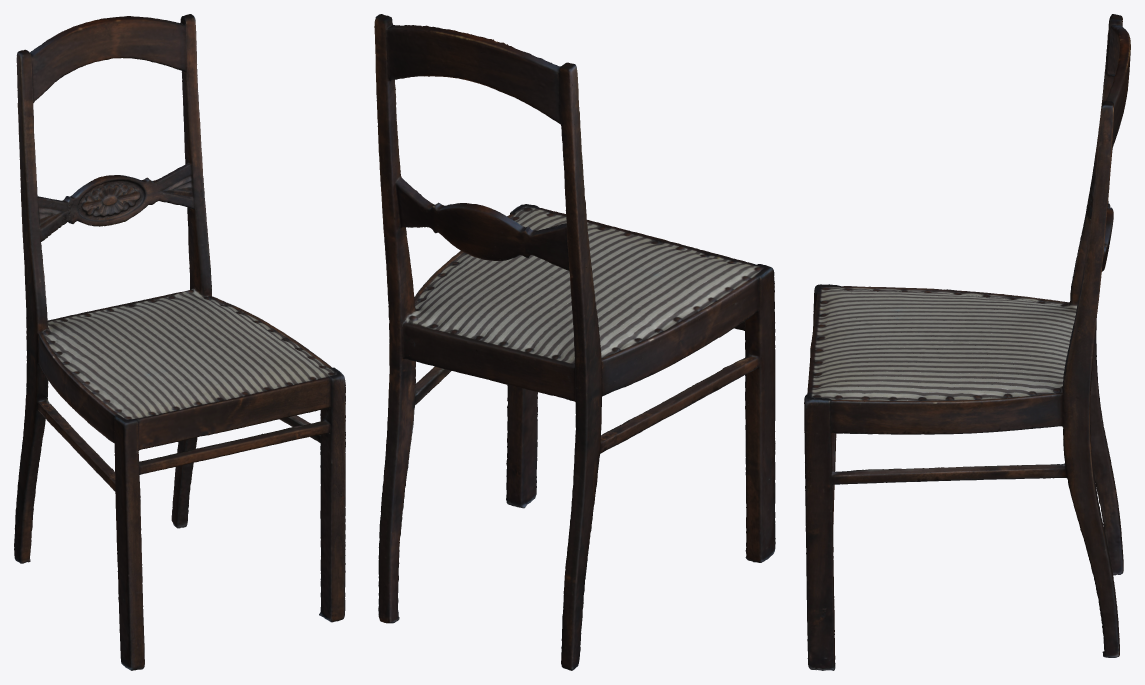
File: obj_wooden_chair_with_a_cushion_6c12af.glb
3 renders of one model, left to right at view 1: azimuth 30°, elevation 25°; view 2: azimuth 150°, elevation 25°; view 3: azimuth 270°, elevation 25°, orthographic. The views are drawn at different scales.
Visible parts, largest first — view 1: obj_wooden_chair_with_a_cushion_6c12af; view 2: obj_wooden_chair_with_a_cushion_6c12af; view 3: obj_wooden_chair_with_a_cushion_6c12af.
Part boxes in pixels (<box>): obj_wooden_chair_with_a_cushion_6c12af: <box>14,14,345,670</box>; obj_wooden_chair_with_a_cushion_6c12af: <box>374,14,775,670</box>; obj_wooden_chair_with_a_cushion_6c12af: <box>804,14,1130,670</box>.
Size of the model in its own units: 0.3782 by 0.85 by 0.4431.
1 material, 1 textured.
